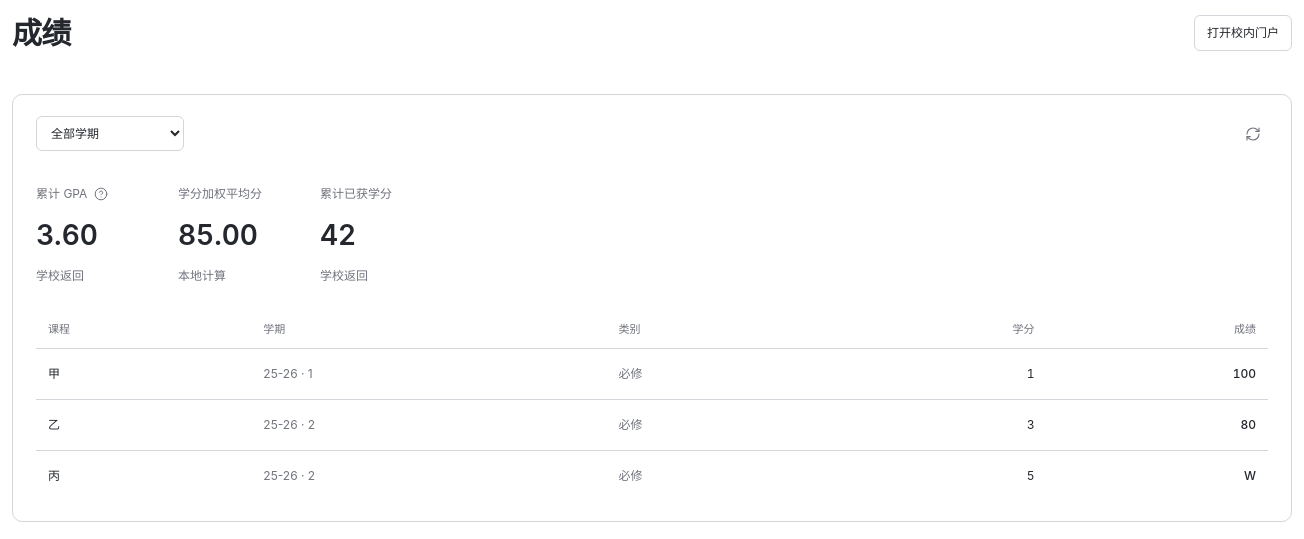
Test case: prefers official GPA at each scope without replacing the locally calculated average
expect the text "3.60" is shown: met, box left=36, top=218, right=98, bottom=252
expect the text "85.00" is shown: met, box left=178, top=218, right=258, bottom=252
Select "25-26 学年第2学期" in the dropdown named "成绩学期" at (110, 134), box left=36, top=116, right=184, bottom=151
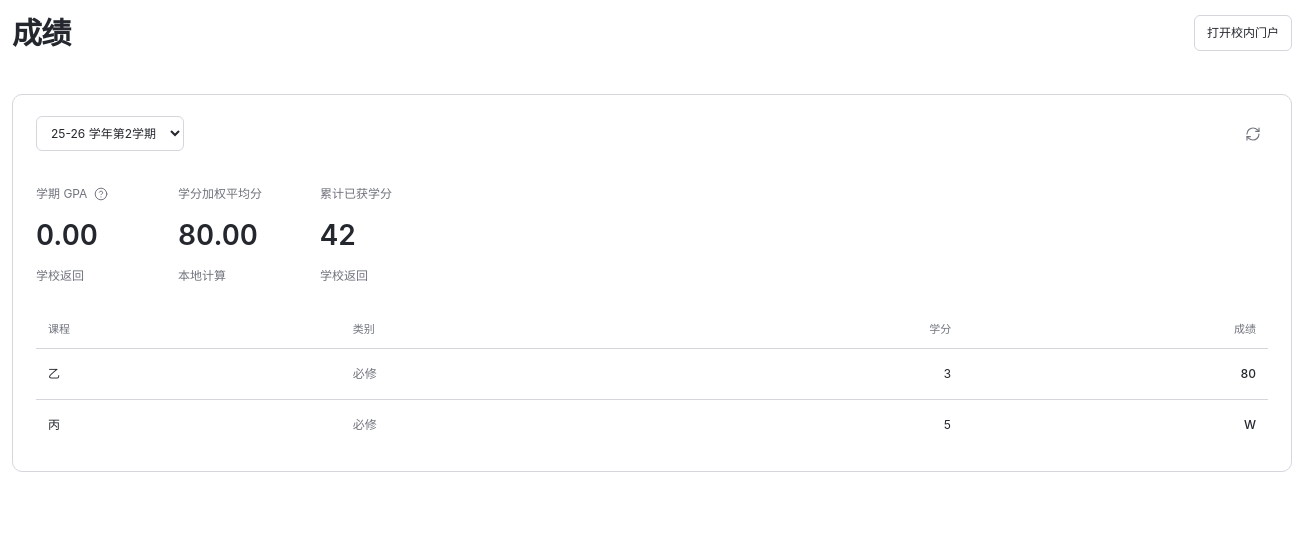
expect the text "0.00" is shown: met, box left=36, top=218, right=98, bottom=252
expect the text "80.00" is shown: met, box left=178, top=218, right=258, bottom=252
